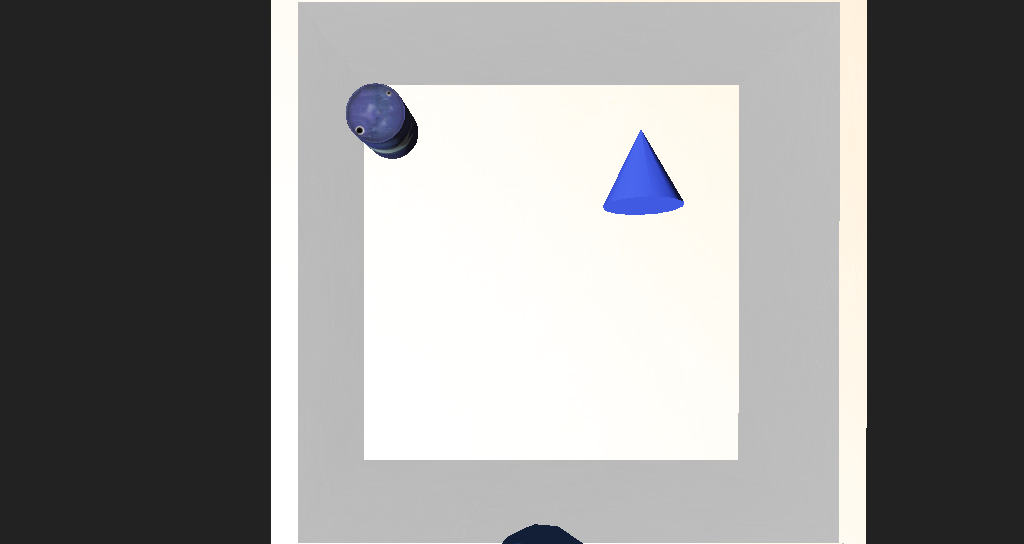cone: (340, 165, 401, 208)
cylinder: (546, 177, 613, 234)
sphere: (441, 398, 529, 460)
